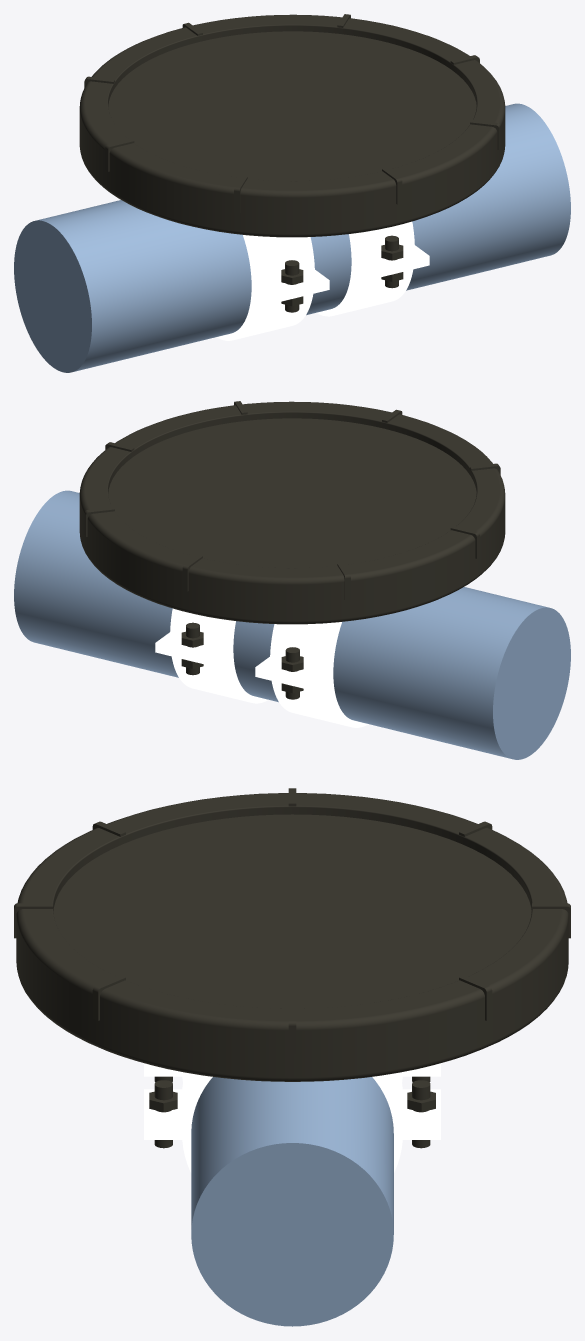
The model's file is micro-porous-aerator.gltf.
The picture shows the model from 3 angles, top to bottom: view 1: azimuth 30°, elevation 25°; view 2: azimuth 150°, elevation 25°; view 3: azimuth 270°, elevation 25°; orthographic projection. The views are drawn at different scales.
Parts seen in each view (by area): view 1: 旋转 [261485], 拉伸 [261657], 拉伸 [261615], 拉伸 [261683], 拉伸 [261665], 拉伸 [261727]; view 2: 旋转 [261485], 拉伸 [261657], 拉伸 [261615], 拉伸 [261683], 拉伸 [261727], 拉伸 [261665]; view 3: 旋转 [261485], 拉伸 [261657], 拉伸 [261683], 拉伸 [261727], 拉伸 [261695], 拉伸 [261691].
Part boxes in pixels (x1=…): 旋转 [261485]: x1=79, y1=14, x2=505, y2=237; 拉伸 [261657]: x1=14, y1=103, x2=570, y2=372; 拉伸 [261615]: x1=243, y1=235, x2=329, y2=299; 拉伸 [261683]: x1=349, y1=221, x2=429, y2=274; 拉伸 [261665]: x1=216, y1=285, x2=329, y2=340; 拉伸 [261727]: x1=316, y1=260, x2=429, y2=316; 旋转 [261485]: x1=79, y1=401, x2=505, y2=624; 拉伸 [261657]: x1=14, y1=490, x2=570, y2=759; 拉伸 [261615]: x1=255, y1=622, x2=341, y2=686; 拉伸 [261683]: x1=155, y1=608, x2=235, y2=661; 拉伸 [261727]: x1=155, y1=647, x2=268, y2=703; 拉伸 [261665]: x1=255, y1=672, x2=368, y2=727; 旋转 [261485]: x1=16, y1=793, x2=568, y2=1081; 拉伸 [261657]: x1=191, y1=1077, x2=393, y2=1326; 拉伸 [261683]: x1=144, y1=1072, x2=440, y2=1133; 拉伸 [261727]: x1=144, y1=1133, x2=440, y2=1172; 拉伸 [261695]: x1=149, y1=1091, x2=435, y2=1112; 拉伸 [261691]: x1=154, y1=1080, x2=430, y2=1112.
Size of the model in its own units: 0.3898 by 0.1667 by 0.3024.
